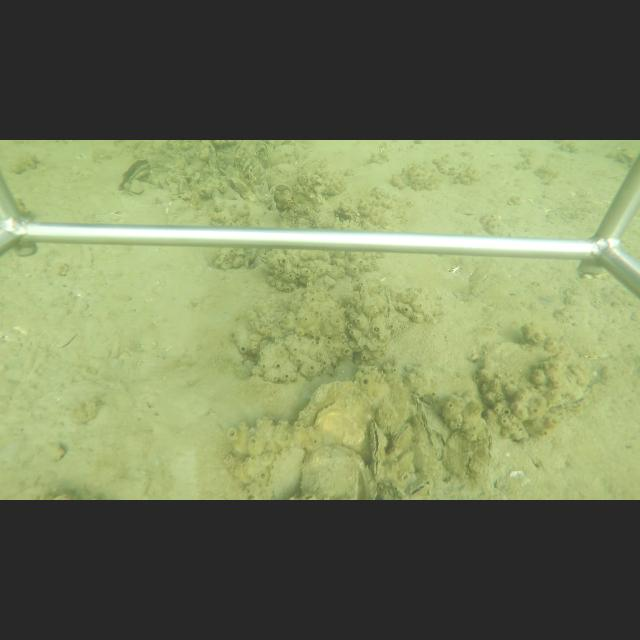Oyster-Closed: (480, 341, 595, 420), (292, 380, 375, 453), (298, 441, 379, 498), (413, 390, 436, 458), (392, 423, 415, 450)
Oyster-Open: (368, 420, 388, 478), (119, 157, 152, 190)
